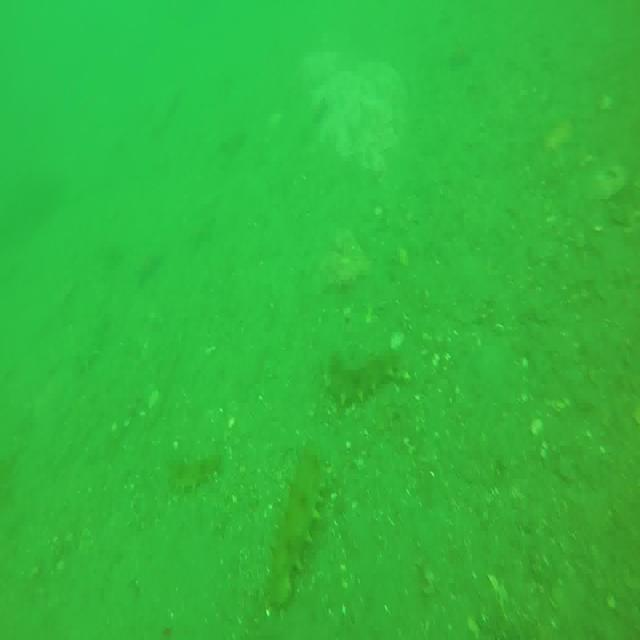holothurian: (271, 444, 323, 604), (325, 343, 398, 402), (162, 448, 225, 500), (68, 318, 110, 378)
starfish: (138, 243, 166, 298)
